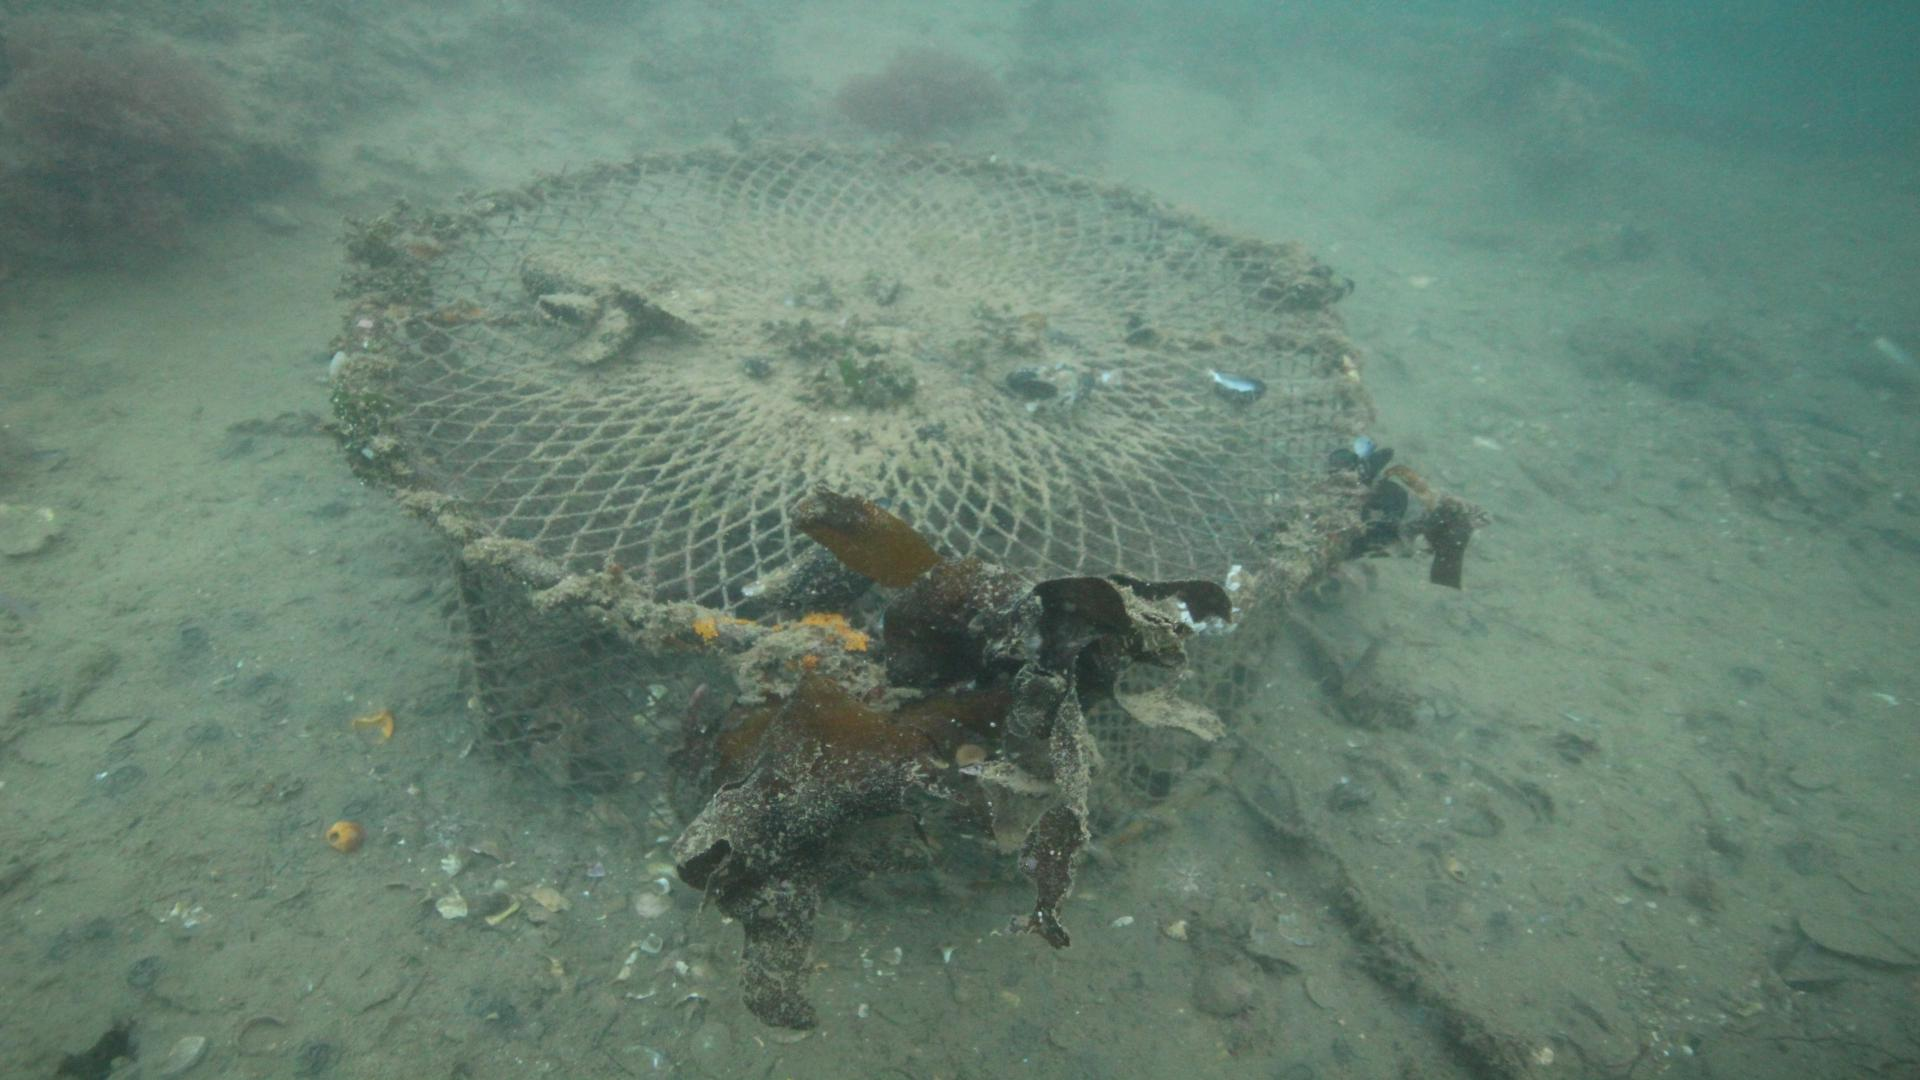circular fish trap: (324, 132, 1379, 895)
